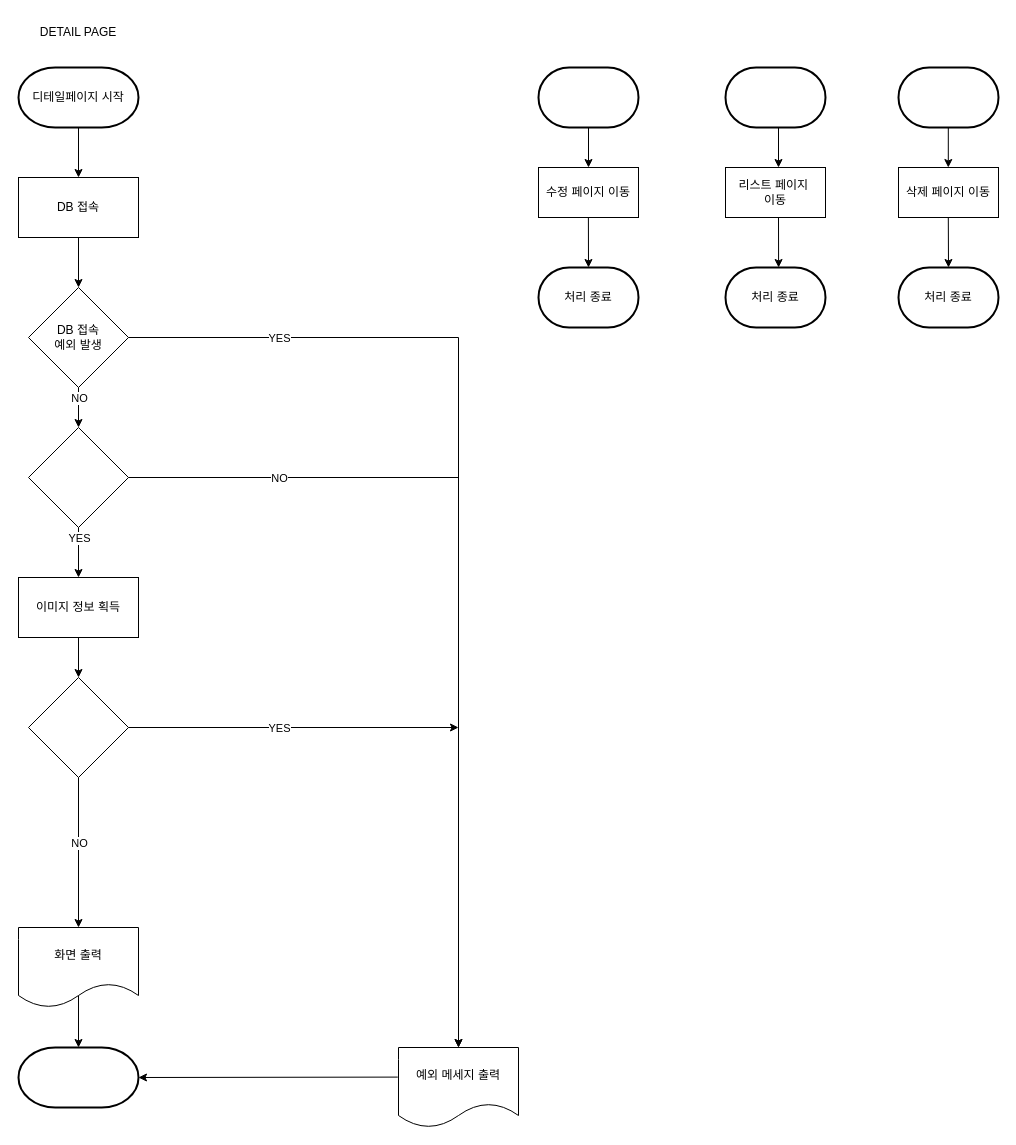
The diagram is 1016 pixels wide and 1145 high, and some of its shapes have lost their labels. Here are the shapes that lost their labels. From the top down, the centre of each, then its label:
At point 588,97: "UPDATE 버튼 출력".
At point 775,97: "CANCLE 버튼 출력".
At point 948,97: "DELETE 버튼 출력".
At point 78,477: "게시글no 파라미터 획득".
At point 78,727: "수정처리 예외처리".
At point 78,1077: "디테일페이지 종료".
